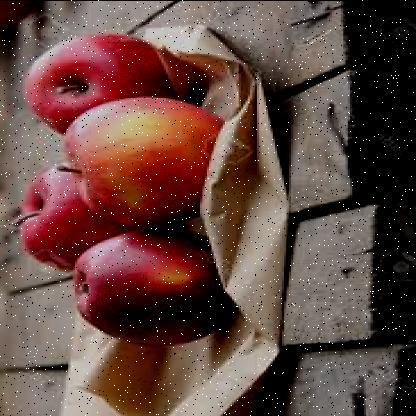apple: (73, 227, 227, 345), (68, 102, 230, 214), (27, 31, 168, 134), (21, 163, 109, 271)
